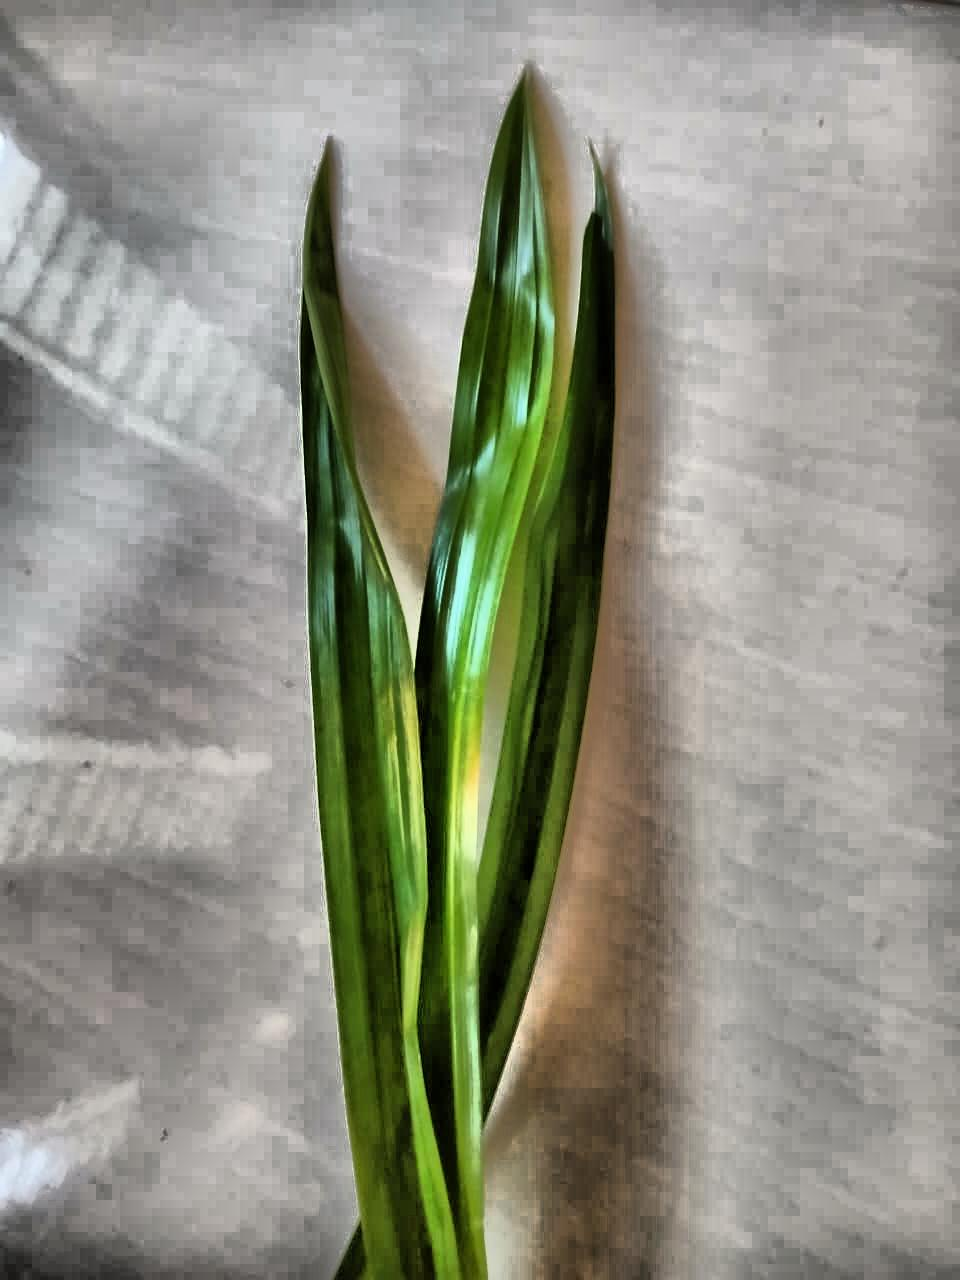daun pandan: (301, 74, 615, 1279)
